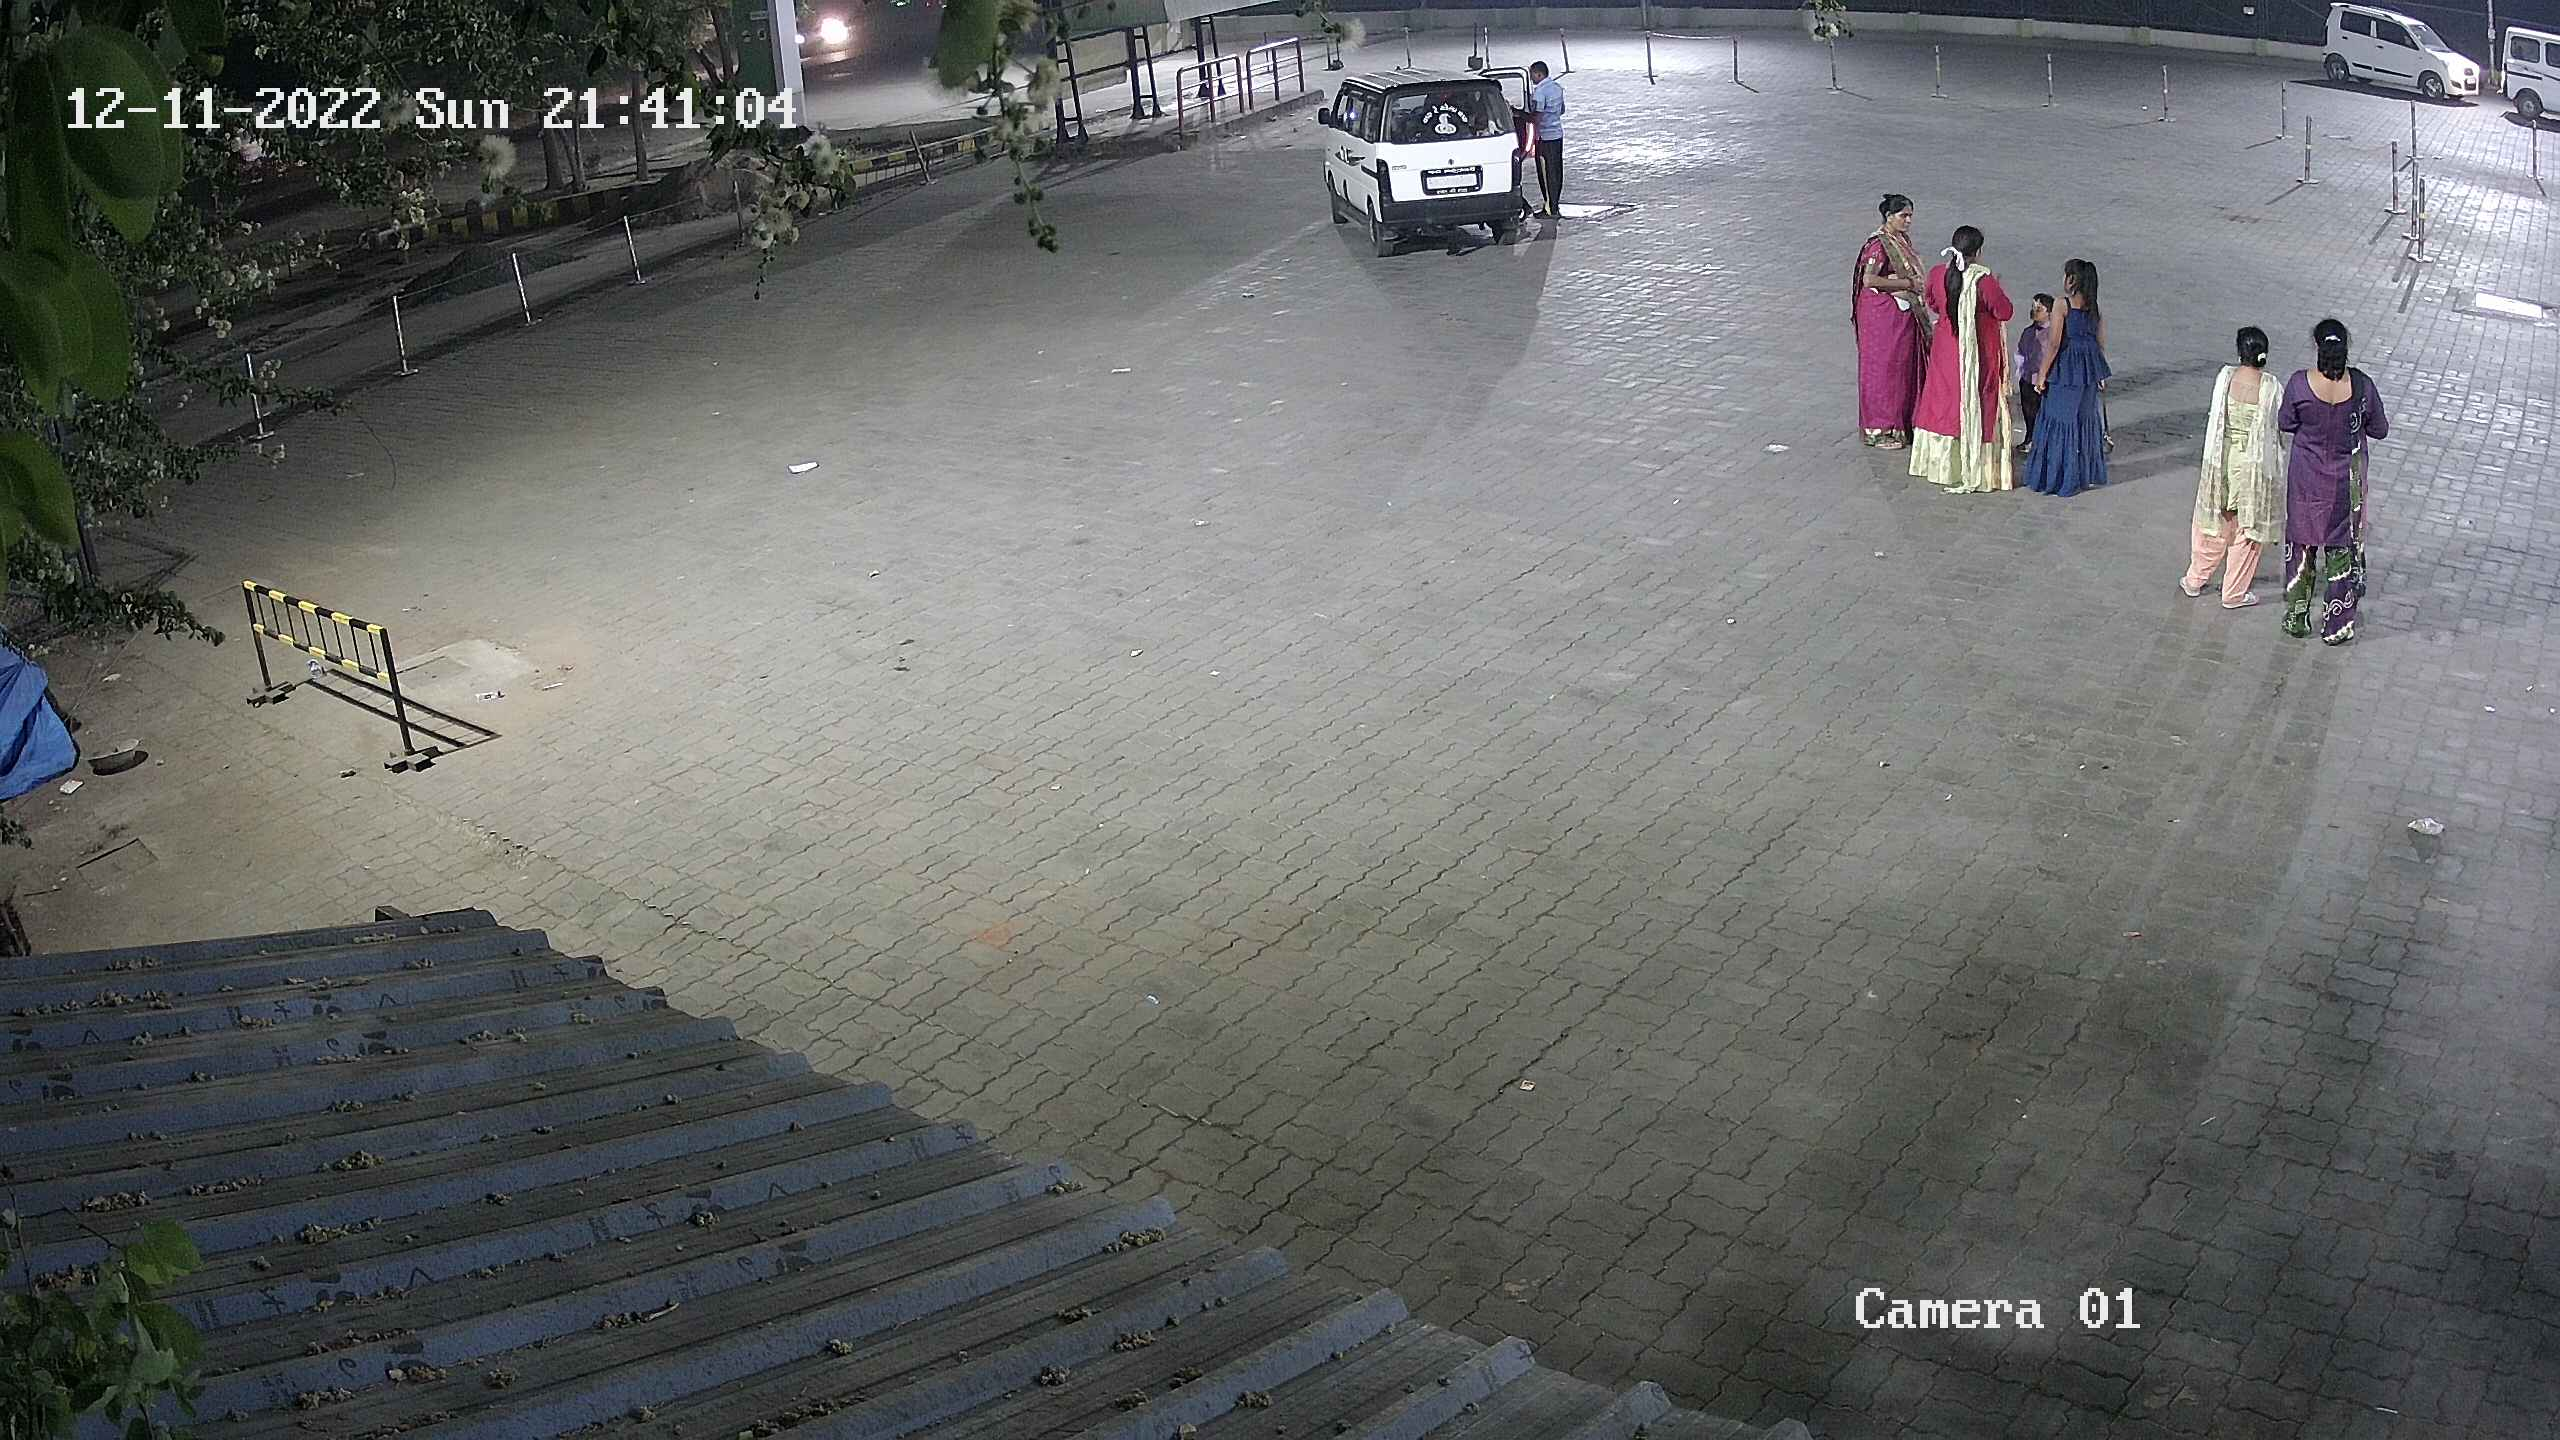Car: (1306, 40, 1572, 257), (2302, 2, 2490, 113), (2477, 12, 2558, 146)
